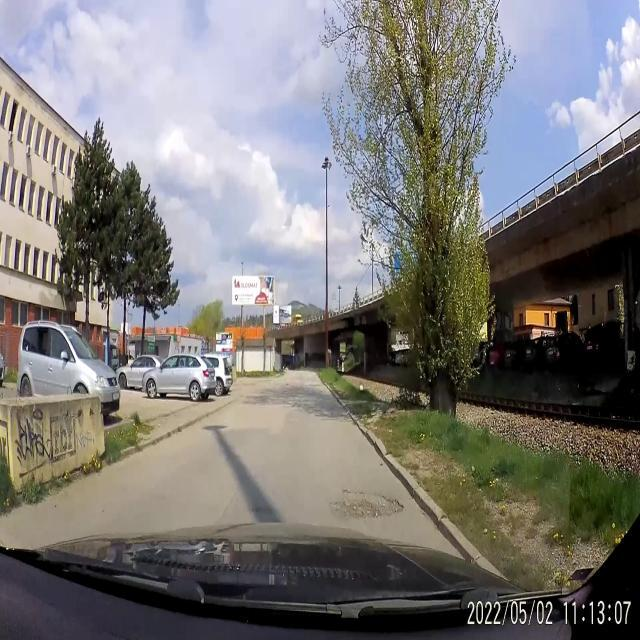Manhole: (202, 420, 230, 432)
Pothole: (324, 471, 406, 535)
